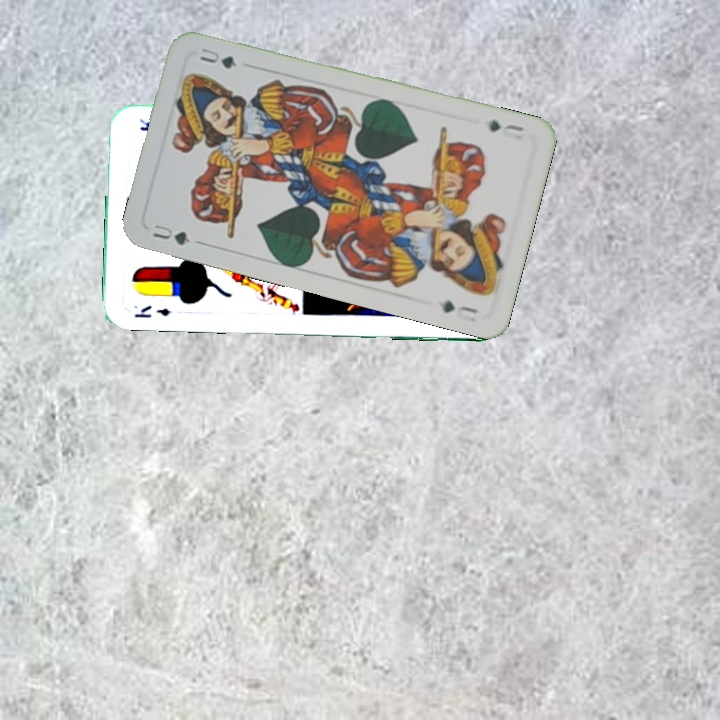EK: (130, 301, 173, 320)
GU: (148, 220, 193, 248), (484, 115, 526, 135)
